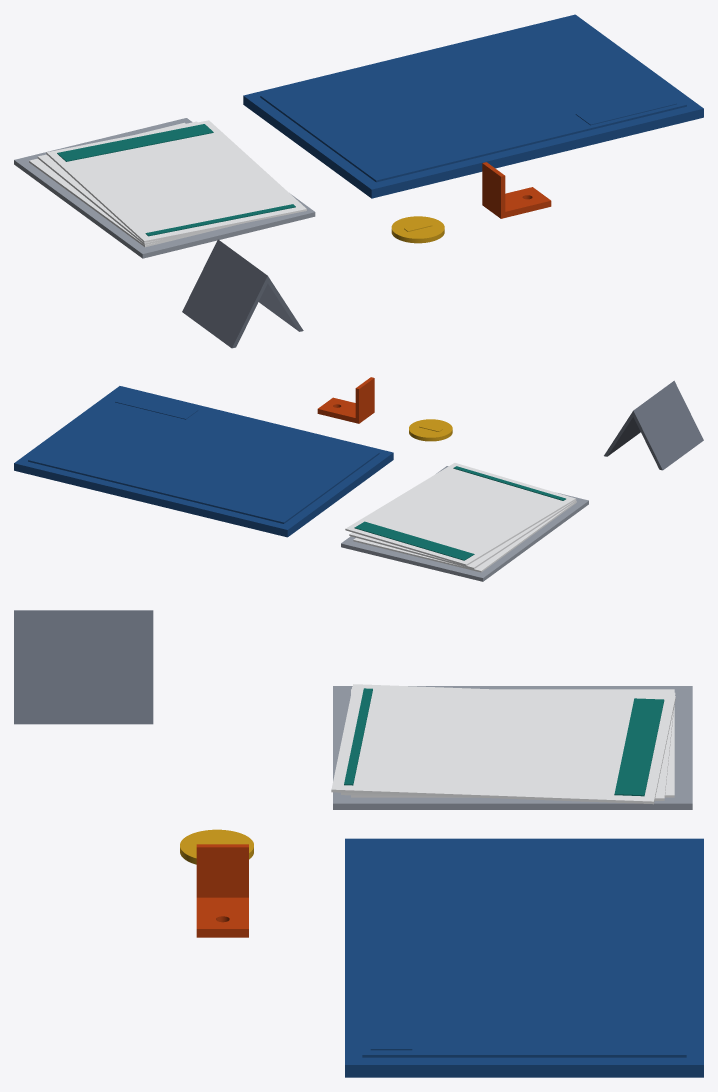
The picture shows the model from 3 angles, top to bottom: view 1: azimuth 30°, elevation 25°; view 2: azimuth 150°, elevation 25°; view 3: azimuth 270°, elevation 25°; orthographic projection. The views are drawn at different scales.
Visible parts, largest first — view 1: Drawing sheet on board (ANSI B), Controlled document set (PRB, PRC, REQ), Agent guardrail card (CLAUDE.md, phase cap), Template repository folder, PDF house style: header and status bands, Printed massing part (concept renders), TRL gate badge; view 2: Drawing sheet on board (ANSI B), Controlled document set (PRB, PRC, REQ), Agent guardrail card (CLAUDE.md, phase cap), Template repository folder, PDF house style: header and status bands, Printed massing part (concept renders), TRL gate badge; view 3: Drawing sheet on board (ANSI B), Controlled document set (PRB, PRC, REQ), Agent guardrail card (CLAUDE.md, phase cap), Template repository folder, Printed massing part (concept renders), PDF house style: header and status bands, TRL gate badge.
Boxes of the visible parts, x1,y1,x2,y2 form: Drawing sheet on board (ANSI B): (243, 14, 703, 198); Controlled document set (PRB, PRC, REQ): (29, 120, 306, 247); Agent guardrail card (CLAUDE.md, phase cap): (182, 239, 303, 348); Template repository folder: (14, 118, 315, 258); PDF house style: header and status bands: (57, 124, 295, 236); Printed massing part (concept renders): (482, 162, 551, 218); TRL gate badge: (391, 216, 444, 243); Drawing sheet on board (ANSI B): (14, 386, 393, 537); Controlled document set (PRB, PRC, REQ): (345, 463, 576, 572); Agent guardrail card (CLAUDE.md, phase cap): (604, 380, 703, 470); Template repository folder: (341, 466, 588, 581); PDF house style: header and status bands: (354, 466, 565, 560); Printed massing part (concept renders): (317, 377, 374, 423); TRL gate badge: (409, 419, 452, 441); Drawing sheet on board (ANSI B): (345, 838, 703, 1077); Controlled document set (PRB, PRC, REQ): (331, 684, 675, 804); Agent guardrail card (CLAUDE.md, phase cap): (14, 610, 153, 724); Template repository folder: (333, 686, 692, 809); Printed massing part (concept renders): (196, 844, 248, 937); PDF house style: header and status bands: (344, 688, 664, 796); TRL gate badge: (180, 829, 253, 864).
Size of the model in its own units: 0.8209 by 0.085 by 0.5947.
